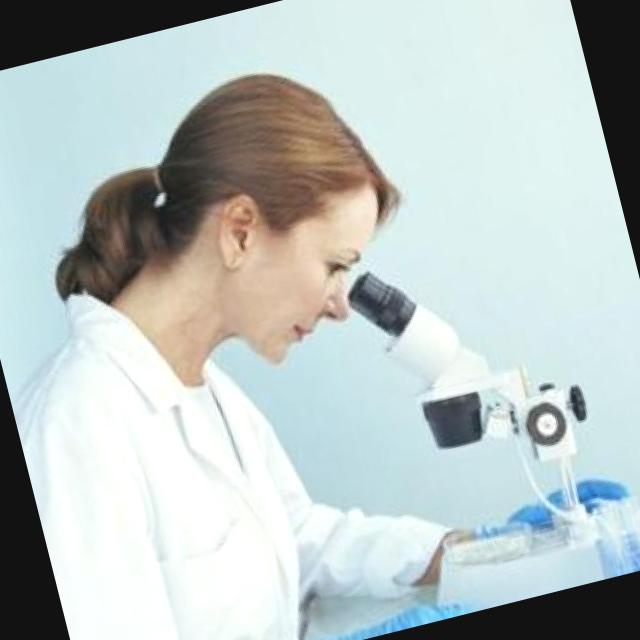no_vest: (0, 231, 357, 640)
